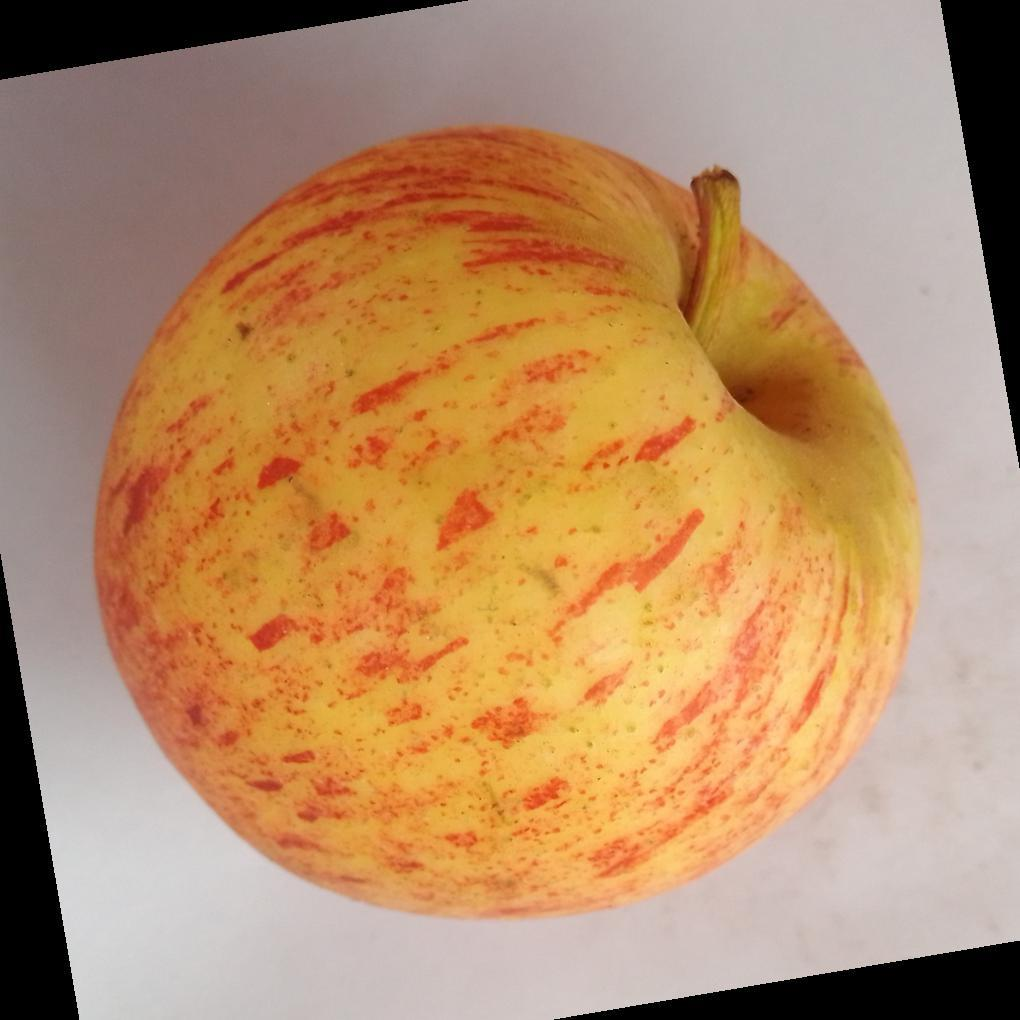FreshGuava: (89, 125, 925, 925)
